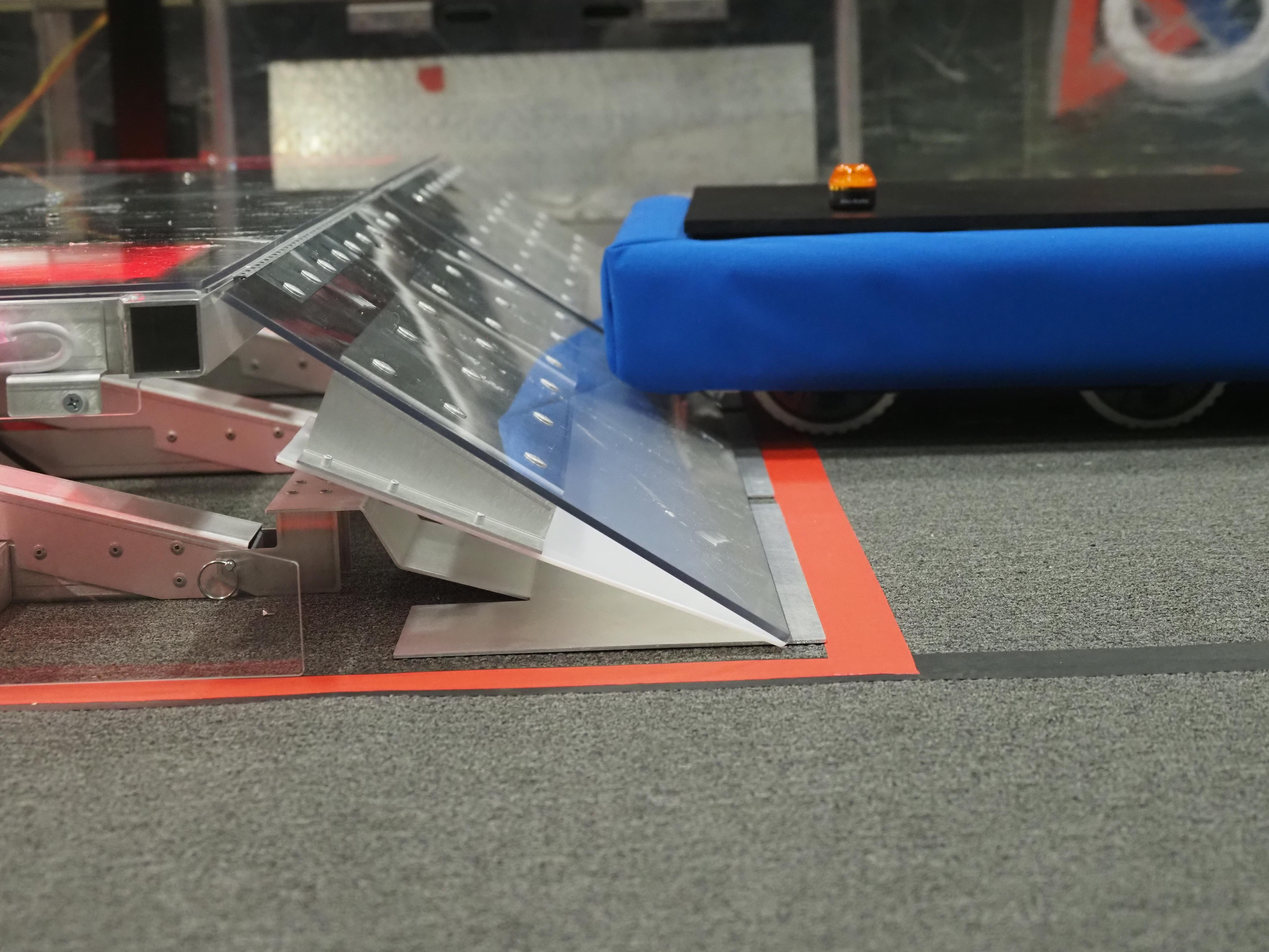robot: (601, 155, 1269, 468)
